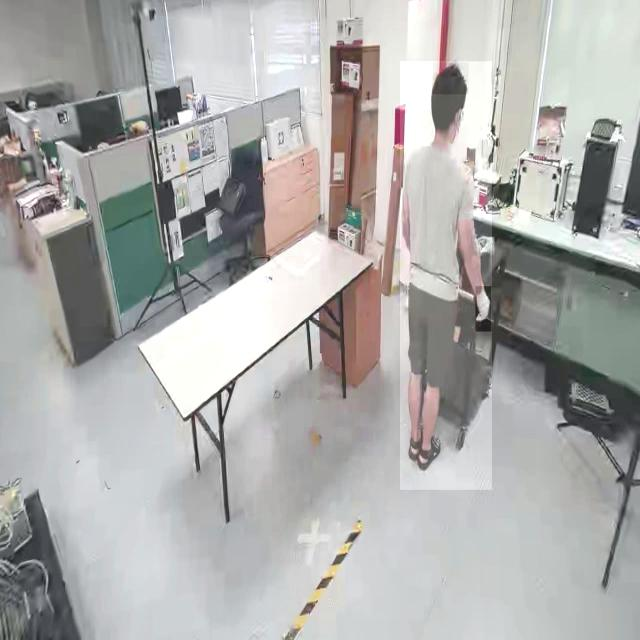hand_glove: (475, 286, 491, 332)
head_nohelmet: (432, 62, 468, 95)
person: (400, 61, 492, 491)
